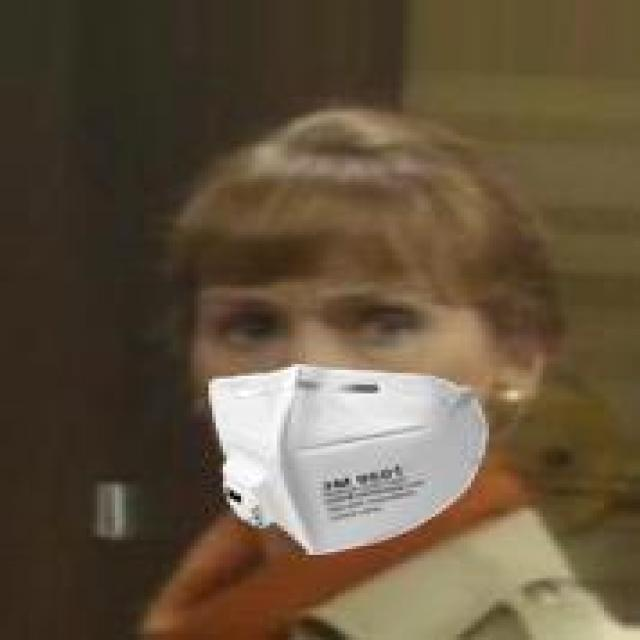mask: (104, 80, 604, 576)
